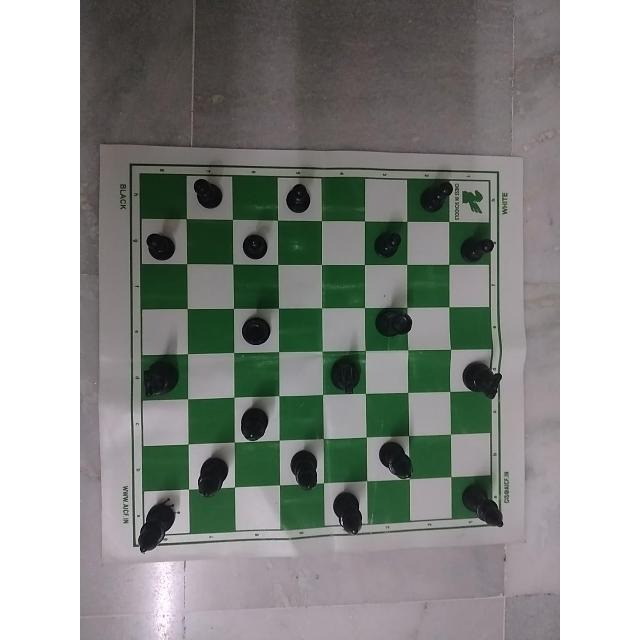black-bishop: (128, 491, 178, 557), (282, 435, 322, 493), (459, 482, 509, 528), (186, 449, 225, 503), (329, 485, 370, 536), (236, 396, 275, 448), (373, 437, 417, 483)
black-knight: (127, 354, 197, 404), (458, 354, 510, 401), (324, 352, 371, 399)
black-pawn: (457, 224, 501, 274), (415, 177, 458, 223), (136, 225, 178, 266), (184, 170, 224, 212), (241, 222, 277, 262), (281, 175, 312, 221), (370, 224, 404, 264)
black-rook: (370, 305, 422, 343), (236, 308, 273, 356)
